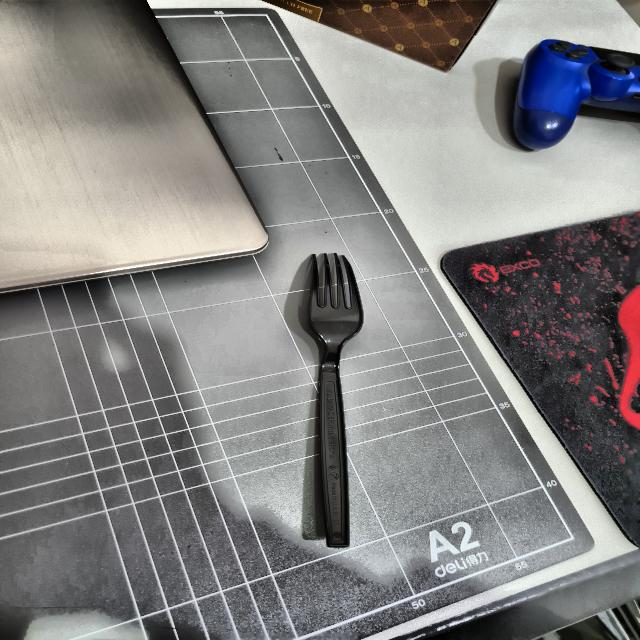plastic utensil: (292, 248, 373, 543)
